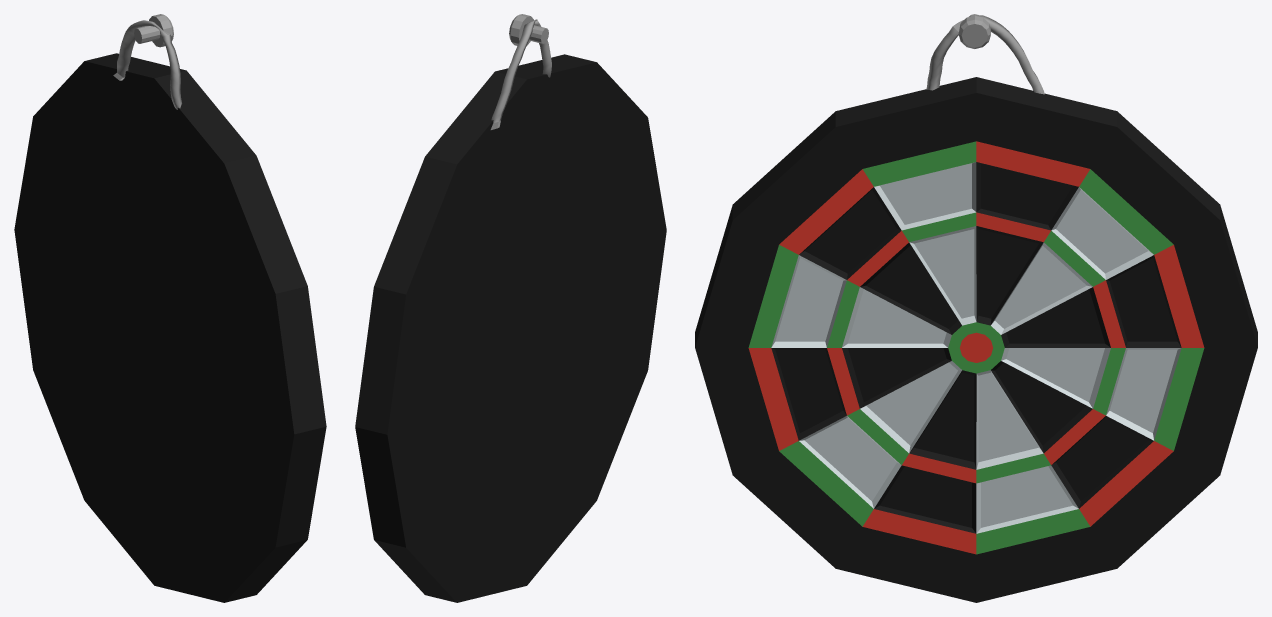
File: Dartboard.glb
The picture shows the model from 3 angles, left to right: view 1: azimuth 30°, elevation 25°; view 2: azimuth 150°, elevation 25°; view 3: azimuth 270°, elevation 25°; orthographic projection.
Visible parts, largest first — view 1: model; view 2: model; view 3: model.
Boxes of the visible parts, x1,y1,x2,y2 form: model: [14, 14, 326, 602]; model: [355, 14, 666, 602]; model: [695, 14, 1257, 602].
Bounding box in the file's own units: 0.1763 × 1.94 × 1.73.
